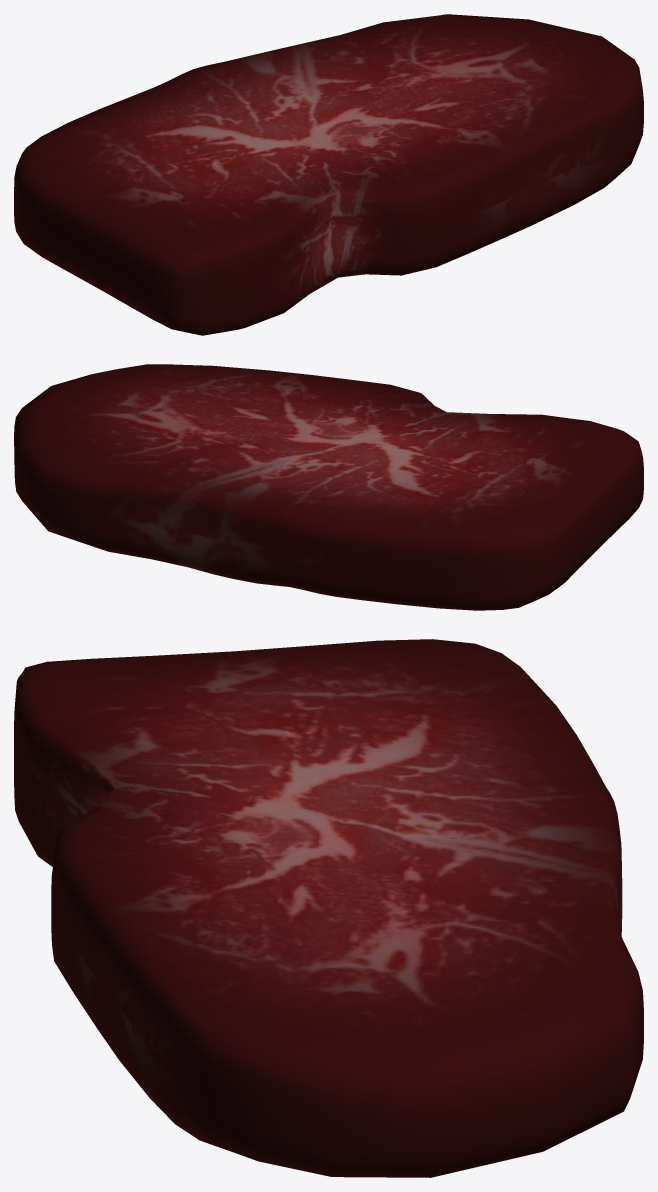
File: Beef.fbx
3 views of the same model, one above another, from view 1: azimuth 30°, elevation 25°; view 2: azimuth 150°, elevation 25°; view 3: azimuth 270°, elevation 25° (orthographic). The views are drawn at different scales.
Parts seen in each view (by area): view 1: object_2; view 2: object_2; view 3: object_2.
Part boxes in pixels (bbox=[...]): object_2: bbox=[14, 14, 643, 335]; object_2: bbox=[14, 364, 643, 610]; object_2: bbox=[14, 639, 643, 1177].
Bounding box in the file's own units: 2.77 × 0.4129 × 1.67.
1 material, 1 textured.
